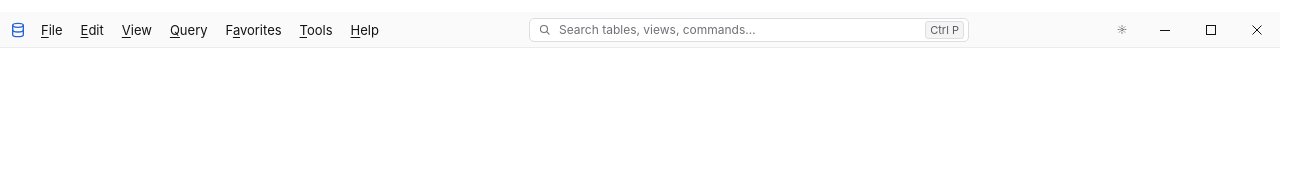
Test: TitleBar › a resize reply after a toggle wins over the older toggle reply
The image size is (1292, 172).
Click the button named "Maximize": (1211, 30) [1188, 12, 1234, 47]
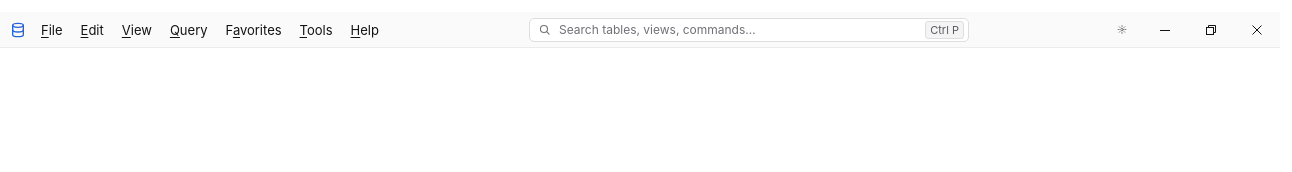
Expected: the button named "Restore down" is shown, [1188, 12, 1234, 47]
